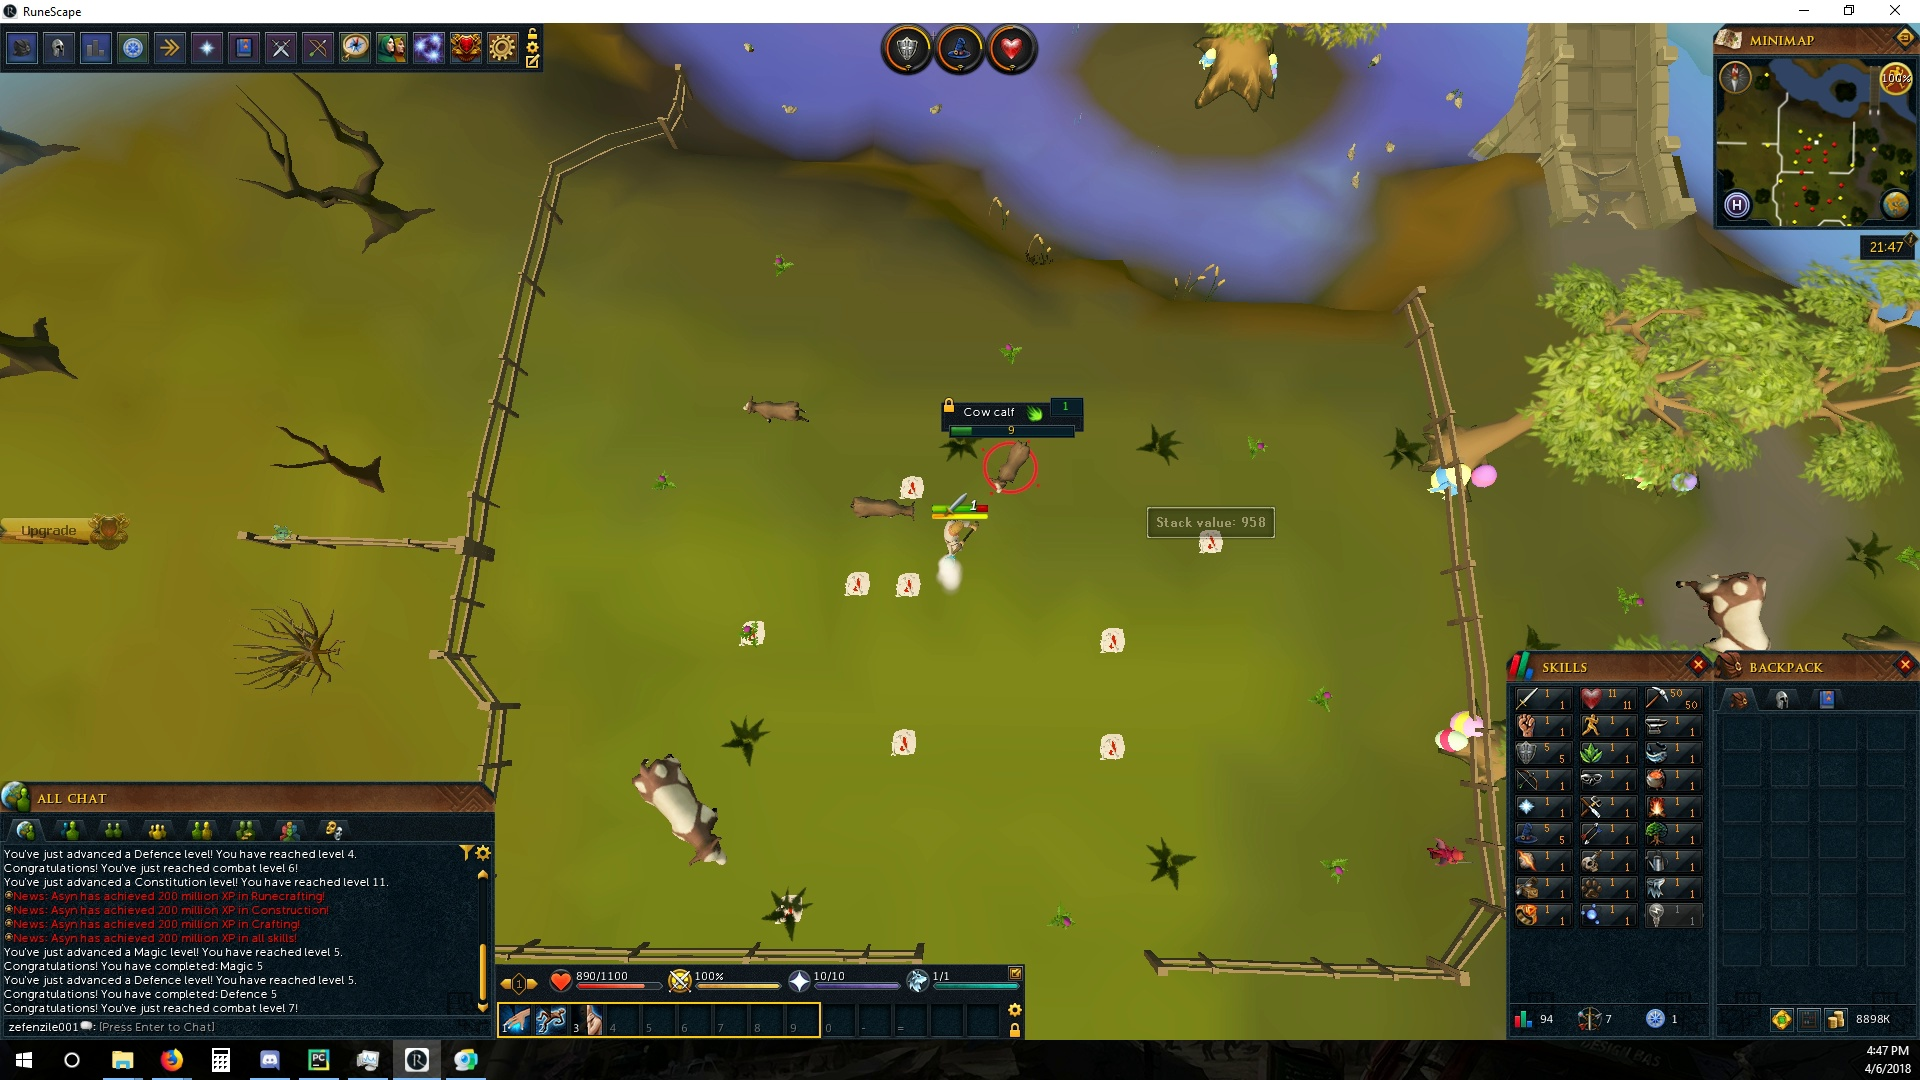calf: (985, 436, 1036, 497), (736, 396, 812, 429), (845, 491, 922, 522)
cow: (632, 749, 733, 869), (1675, 571, 1771, 650)
cow_drop: (885, 724, 918, 758), (1096, 729, 1127, 764), (1097, 622, 1129, 654), (736, 618, 770, 647), (898, 471, 928, 502), (843, 568, 874, 597), (895, 568, 923, 601), (1193, 529, 1228, 555)
